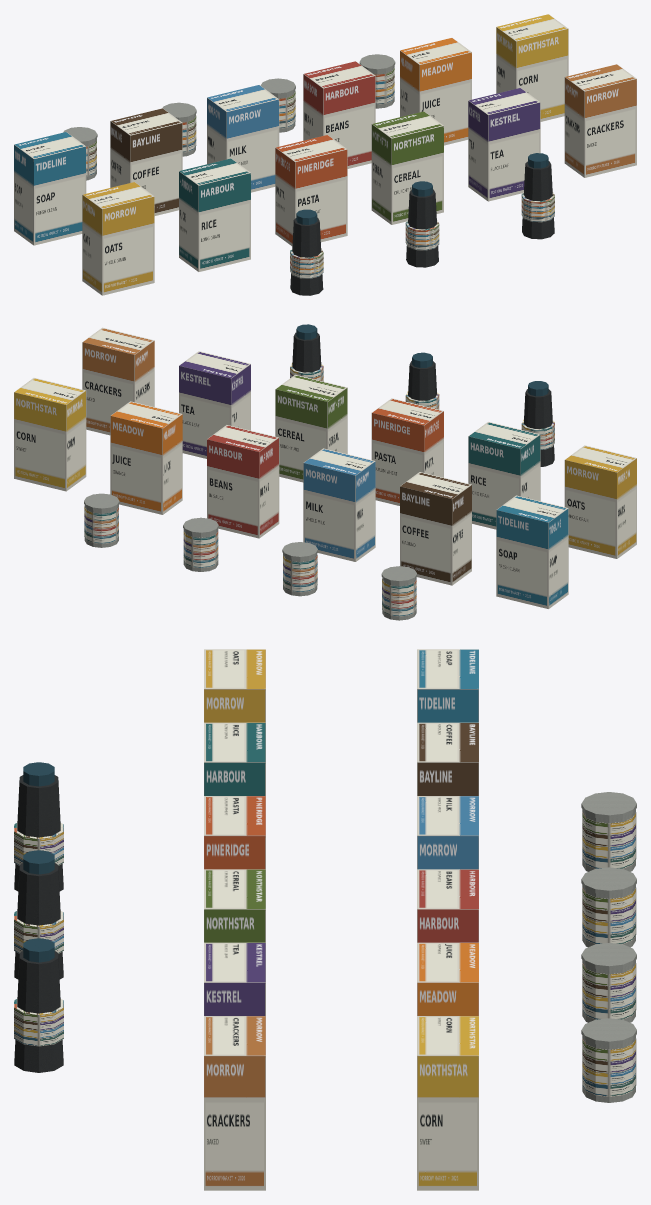
The model's file is PZ_Market_Standalone_Product_Variants.glb.
3 views of the same model, one above another, from view 1: azimuth 30°, elevation 25°; view 2: azimuth 150°, elevation 25°; view 3: azimuth 270°, elevation 25° (orthographic). The views are drawn at different scales.
Visible parts, largest first — view 1: Loose_00_Morrow_Oats_Box, Loose_05_Morrow_Crackers_Box, Loose_01_Harbour_Rice_Box, Loose_06_Tideline_Soap_Box, Loose_04_Kestrel_Tea_Box, Loose_02_Pineridge_Pasta_Box, Loose_03_Northstar_Cereal_Box, Loose_09_Harbour_Beans_Box, Loose_11_Northstar_Corn_Box, Loose_08_Morrow_Milk_Box, Loose_07_Bayline_Coffee_Box, Loose_10_Meadow_Juice_Box (+12 smaller); view 2: Loose_06_Tideline_Soap_Box, Loose_11_Northstar_Corn_Box, Loose_10_Meadow_Juice_Box, Loose_09_Harbour_Beans_Box, Loose_08_Morrow_Milk_Box, Loose_00_Morrow_Oats_Box, Loose_07_Bayline_Coffee_Box, Loose_03_Northstar_Cereal_Box, Loose_01_Harbour_Rice_Box, Loose_02_Pineridge_Pasta_Box, Loose_05_Morrow_Crackers_Box, Loose_04_Kestrel_Tea_Box (+12 smaller); view 3: Loose_05_Morrow_Crackers_Box, Loose_11_Northstar_Corn_Box, Loose_00_Morrow_Oats_Box, Loose_01_Harbour_Rice_Box, Loose_02_Pineridge_Pasta_Box, Loose_03_Northstar_Cereal_Box, Loose_04_Kestrel_Tea_Box, Loose_06_Tideline_Soap_Box, Loose_07_Bayline_Coffee_Box, Loose_08_Morrow_Milk_Box, Loose_09_Harbour_Beans_Box, Loose_10_Meadow_Juice_Box (+14 smaller).
Part boxes in pixels (x1,y1,x2,y2): Loose_00_Morrow_Oats_Box: [82, 182, 154, 295]; Loose_05_Morrow_Crackers_Box: [564, 64, 636, 177]; Loose_01_Harbour_Rice_Box: [179, 158, 250, 271]; Loose_06_Tideline_Soap_Box: [14, 132, 86, 245]; Loose_04_Kestrel_Tea_Box: [468, 88, 540, 201]; Loose_02_Pineridge_Pasta_Box: [275, 135, 347, 246]; Loose_03_Northstar_Cereal_Box: [371, 111, 443, 224]; Loose_09_Harbour_Beans_Box: [303, 61, 375, 168]; Loose_11_Northstar_Corn_Box: [496, 14, 568, 121]; Loose_08_Morrow_Milk_Box: [207, 85, 279, 192]; Loose_07_Bayline_Coffee_Box: [110, 108, 182, 215]; Loose_10_Meadow_Juice_Box: [400, 38, 471, 145]; Loose_06_Tideline_Soap_Box: [496, 495, 568, 608]; Loose_11_Northstar_Corn_Box: [14, 378, 86, 491]; Loose_10_Meadow_Juice_Box: [110, 401, 182, 514]; Loose_09_Harbour_Beans_Box: [207, 425, 279, 538]; Loose_08_Morrow_Milk_Box: [303, 448, 375, 561]; Loose_00_Morrow_Oats_Box: [564, 445, 636, 558]; Loose_07_Bayline_Coffee_Box: [400, 472, 471, 585]; Loose_03_Northstar_Cereal_Box: [275, 374, 347, 482]; Loose_01_Harbour_Rice_Box: [468, 422, 540, 529]; Loose_02_Pineridge_Pasta_Box: [371, 398, 443, 505]; Loose_05_Morrow_Crackers_Box: [82, 327, 154, 435]; Loose_04_Kestrel_Tea_Box: [179, 351, 250, 458]; Loose_05_Morrow_Crackers_Box: [204, 1016, 265, 1190]; Loose_11_Northstar_Corn_Box: [417, 1016, 478, 1190]; Loose_00_Morrow_Oats_Box: [204, 649, 265, 722]; Loose_01_Harbour_Rice_Box: [204, 722, 265, 795]; Loose_02_Pineridge_Pasta_Box: [204, 796, 265, 869]; Loose_03_Northstar_Cereal_Box: [204, 869, 265, 942]; Loose_04_Kestrel_Tea_Box: [204, 942, 265, 1015]; Loose_06_Tideline_Soap_Box: [417, 649, 478, 722]; Loose_07_Bayline_Coffee_Box: [417, 722, 478, 795]; Loose_08_Morrow_Milk_Box: [417, 796, 478, 869]; Loose_09_Harbour_Beans_Box: [417, 869, 478, 942]; Loose_10_Meadow_Juice_Box: [417, 942, 478, 1015].
Size of the model in its own units: 1.94 by 0.3 by 1.26.
Materials: 4 (4 with a texture image).
